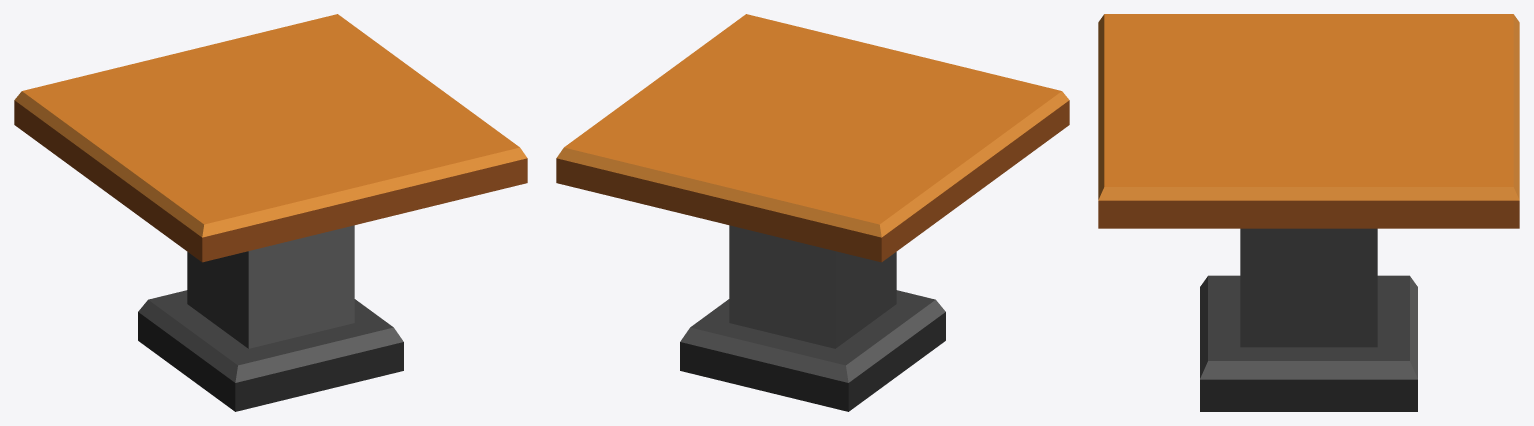
File: CR_Table_Small_2.fbx
3 renders of one model, left to right at view 1: azimuth 30°, elevation 25°; view 2: azimuth 150°, elevation 25°; view 3: azimuth 270°, elevation 25°, orthographic. The views are drawn at different scales.
Visible parts, largest first — view 1: CR_Table_Small_2; view 2: CR_Table_Small_2; view 3: CR_Table_Small_2.
Boxes of the visible parts, bbox=[...] form: CR_Table_Small_2: bbox=[14, 14, 527, 411]; CR_Table_Small_2: bbox=[556, 14, 1069, 411]; CR_Table_Small_2: bbox=[1098, 14, 1519, 411].
Bounding box in the file's own units: 1 × 0.6947 × 1.
